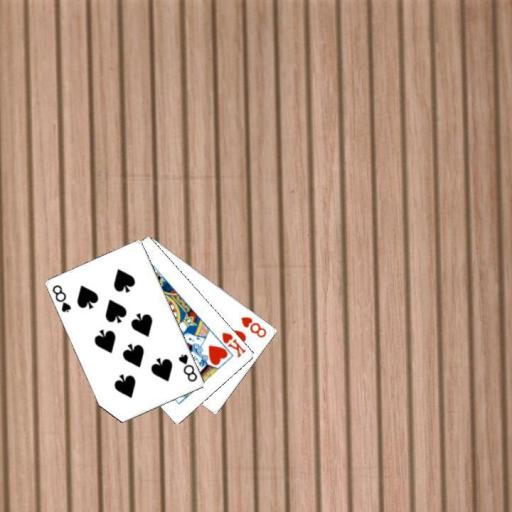8H: (238, 314, 268, 339)
8S: (49, 282, 73, 314), (176, 352, 199, 384)
KH: (219, 329, 247, 359)
